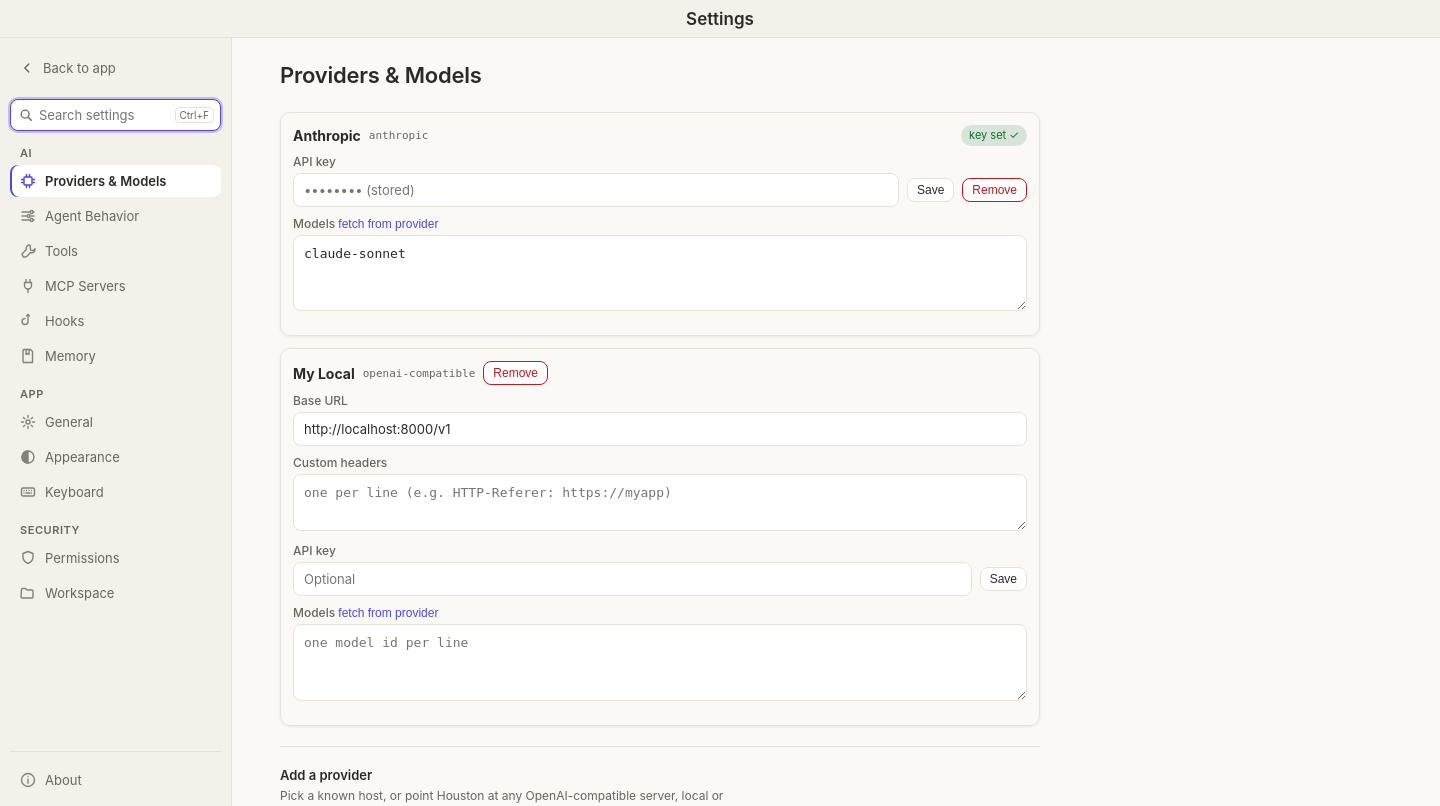
SettingsModal › says formatters need Git for Windows when the shell is the cmd.exe fallback
Click the button "Tools": (116, 251) [10,235,221,267]
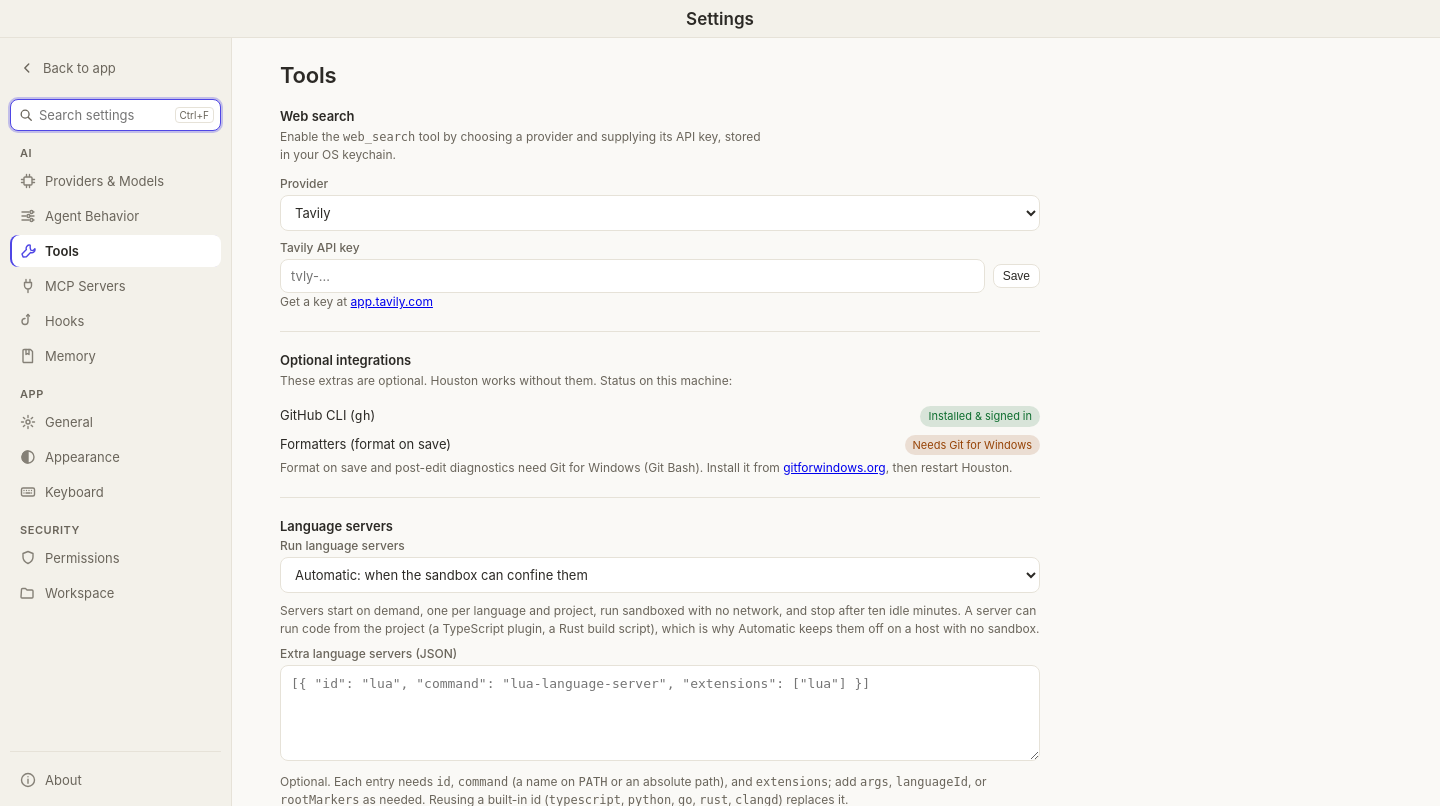
expect the text "Needs Git for Windows" is shown: met, box [905,434,1040,455]
